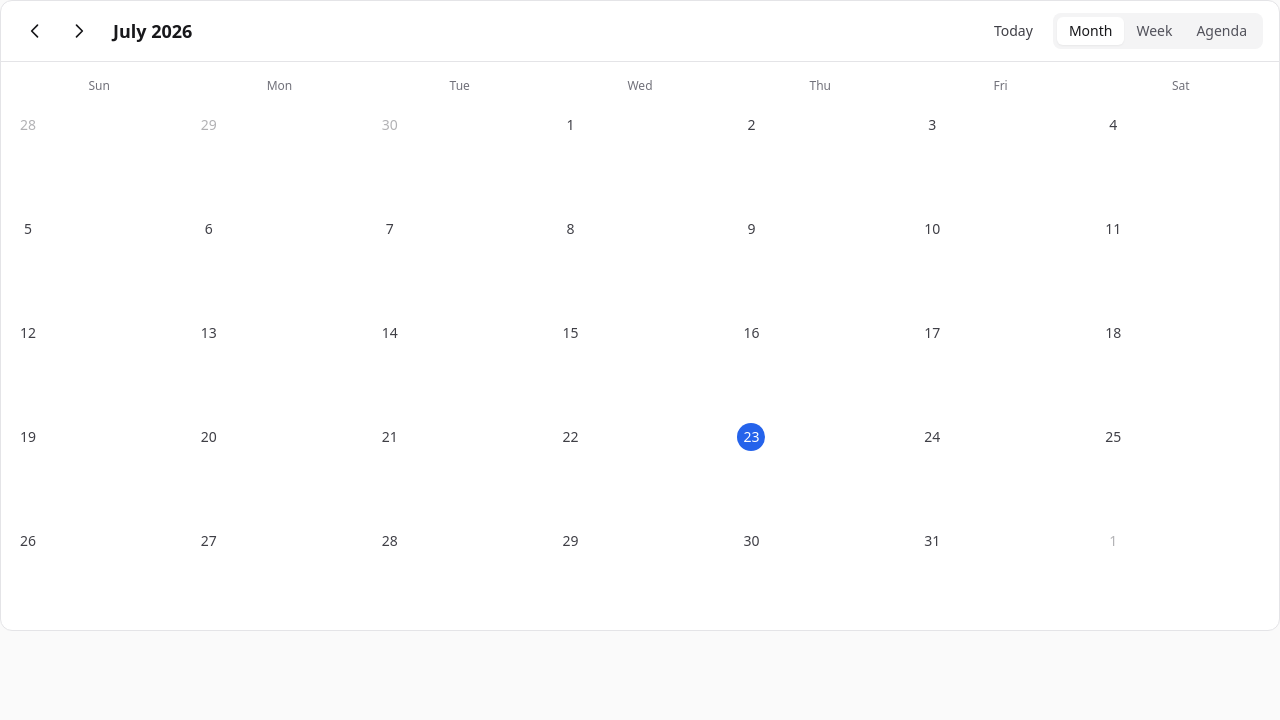
InterviewCalendar › month view - calendar grid › shows "No interviews scheduled" for day without interviews
Click the text "23" at (751, 437), box left=737, top=423, right=765, bottom=451
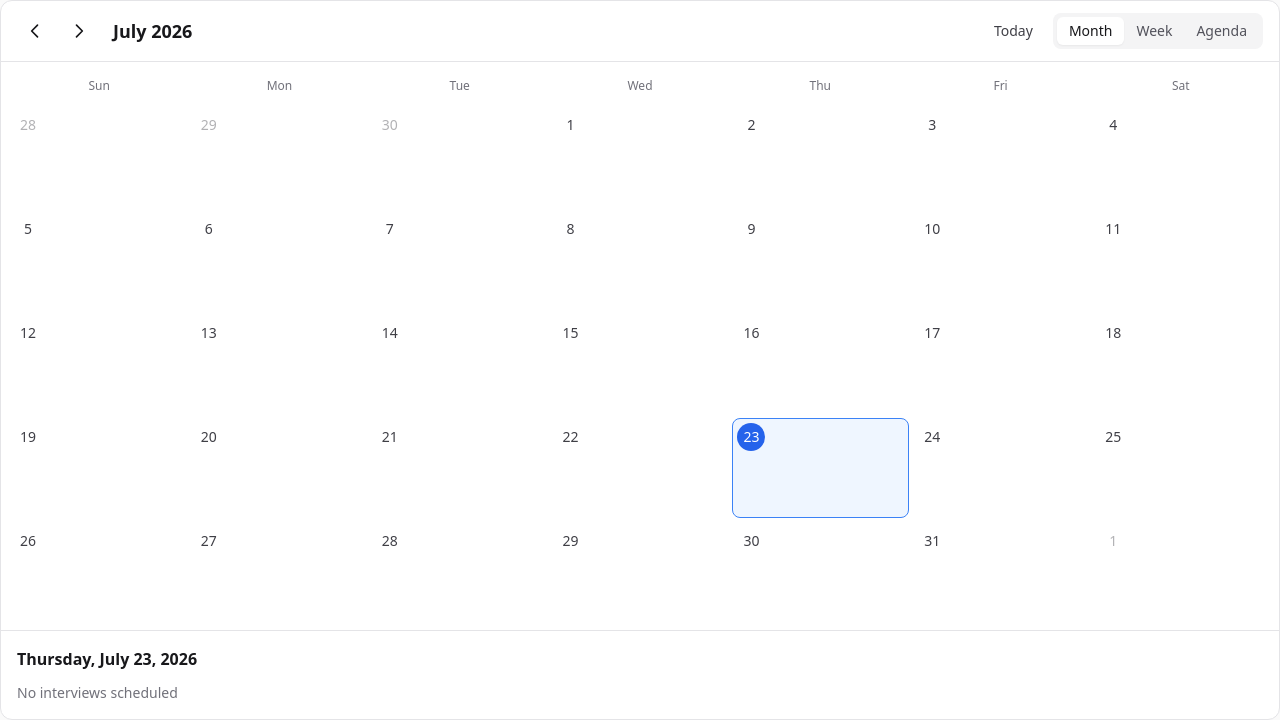
Now the text "No interviews scheduled" is shown, box left=17, top=683, right=178, bottom=702
